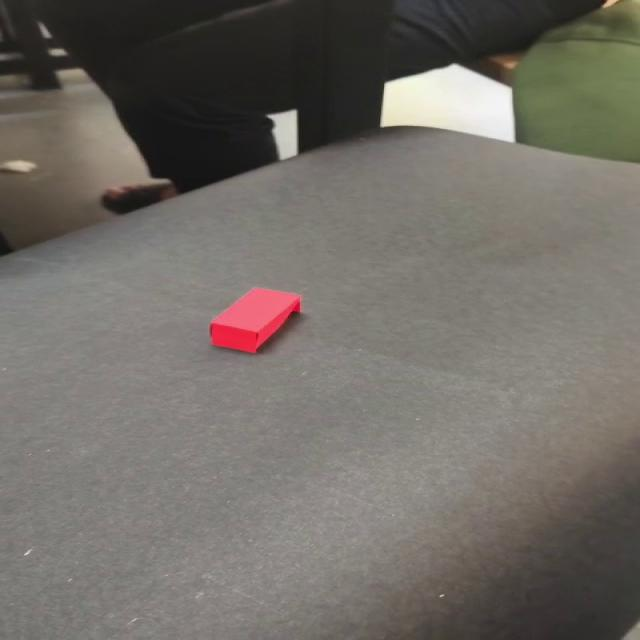red block: (208, 286, 301, 353)
